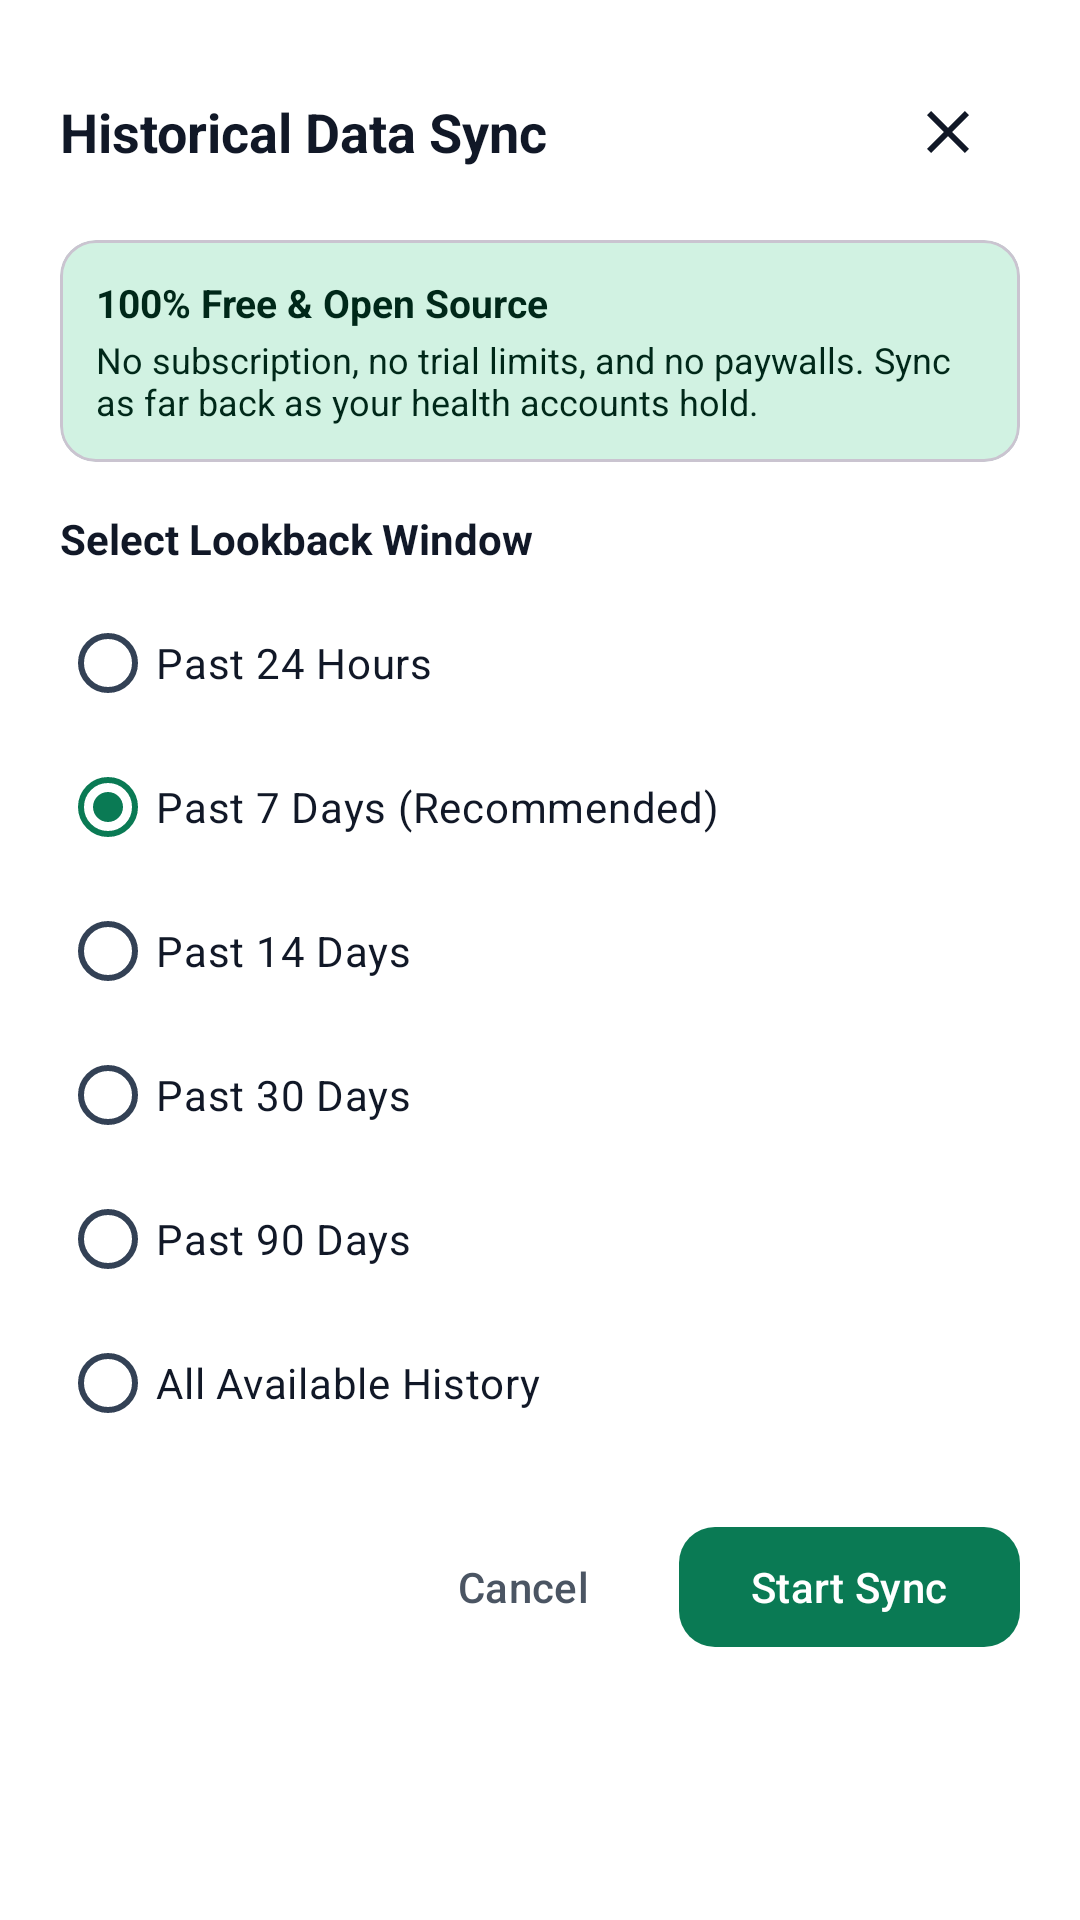

Screen size 1080px x 1920px. Icon name, then its center in pixels as (x=x, y=y):
Close: (x=948, y=132)
